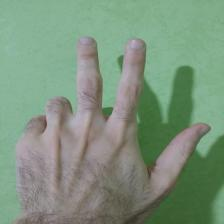three: (24, 34, 212, 217)
